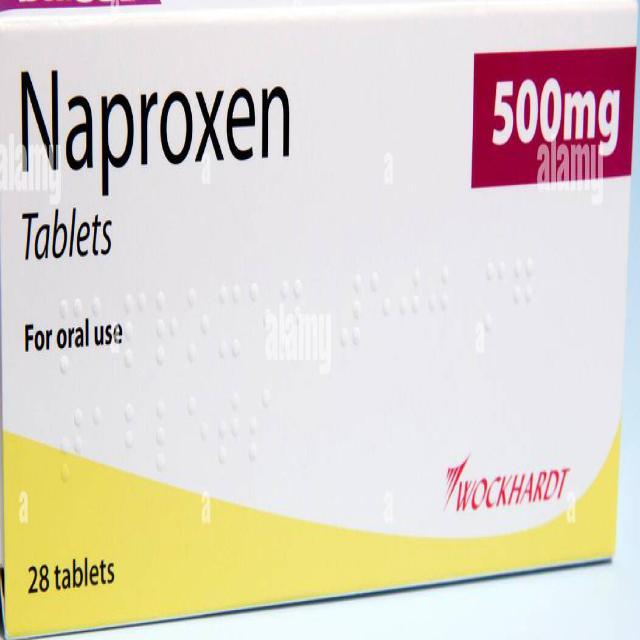drug-name: (15, 58, 302, 190)
